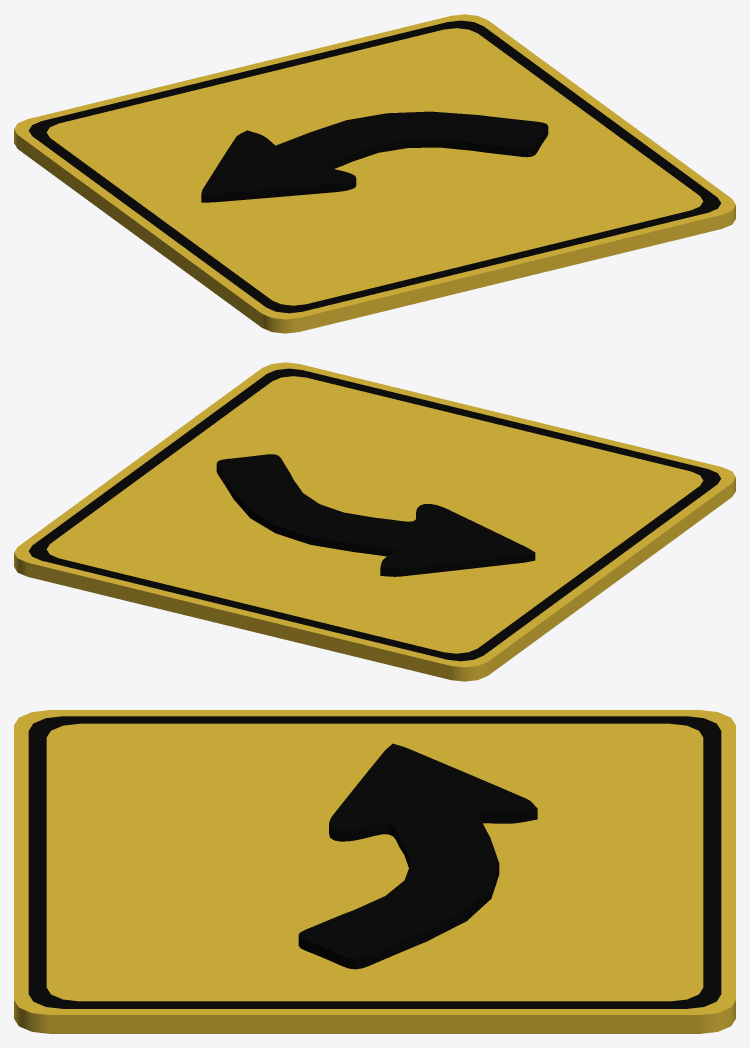
Rendered from left_curve_sign.fbx.
The picture shows the model from 3 angles, top to bottom: view 1: azimuth 30°, elevation 25°; view 2: azimuth 150°, elevation 25°; view 3: azimuth 270°, elevation 25°; orthographic projection. The views are drawn at different scales.
Parts seen in each view (by area): view 1: square_yellow_sign, LeftCurve; view 2: square_yellow_sign, LeftCurve; view 3: square_yellow_sign, LeftCurve.
Boxes of the visible parts, x1,y1,x2,y2 form: square_yellow_sign: [14, 14, 735, 333]; LeftCurve: [201, 111, 548, 202]; square_yellow_sign: [14, 362, 735, 681]; LeftCurve: [216, 454, 535, 576]; square_yellow_sign: [14, 710, 735, 1033]; LeftCurve: [298, 743, 537, 969].
Size of what is drawn, in the model's own units: 70.96 by 3.2 by 70.96.
